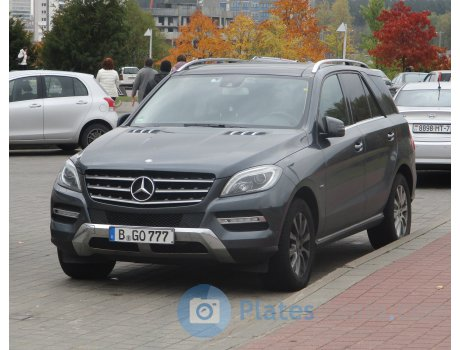License Plates: (113, 225, 170, 241)
